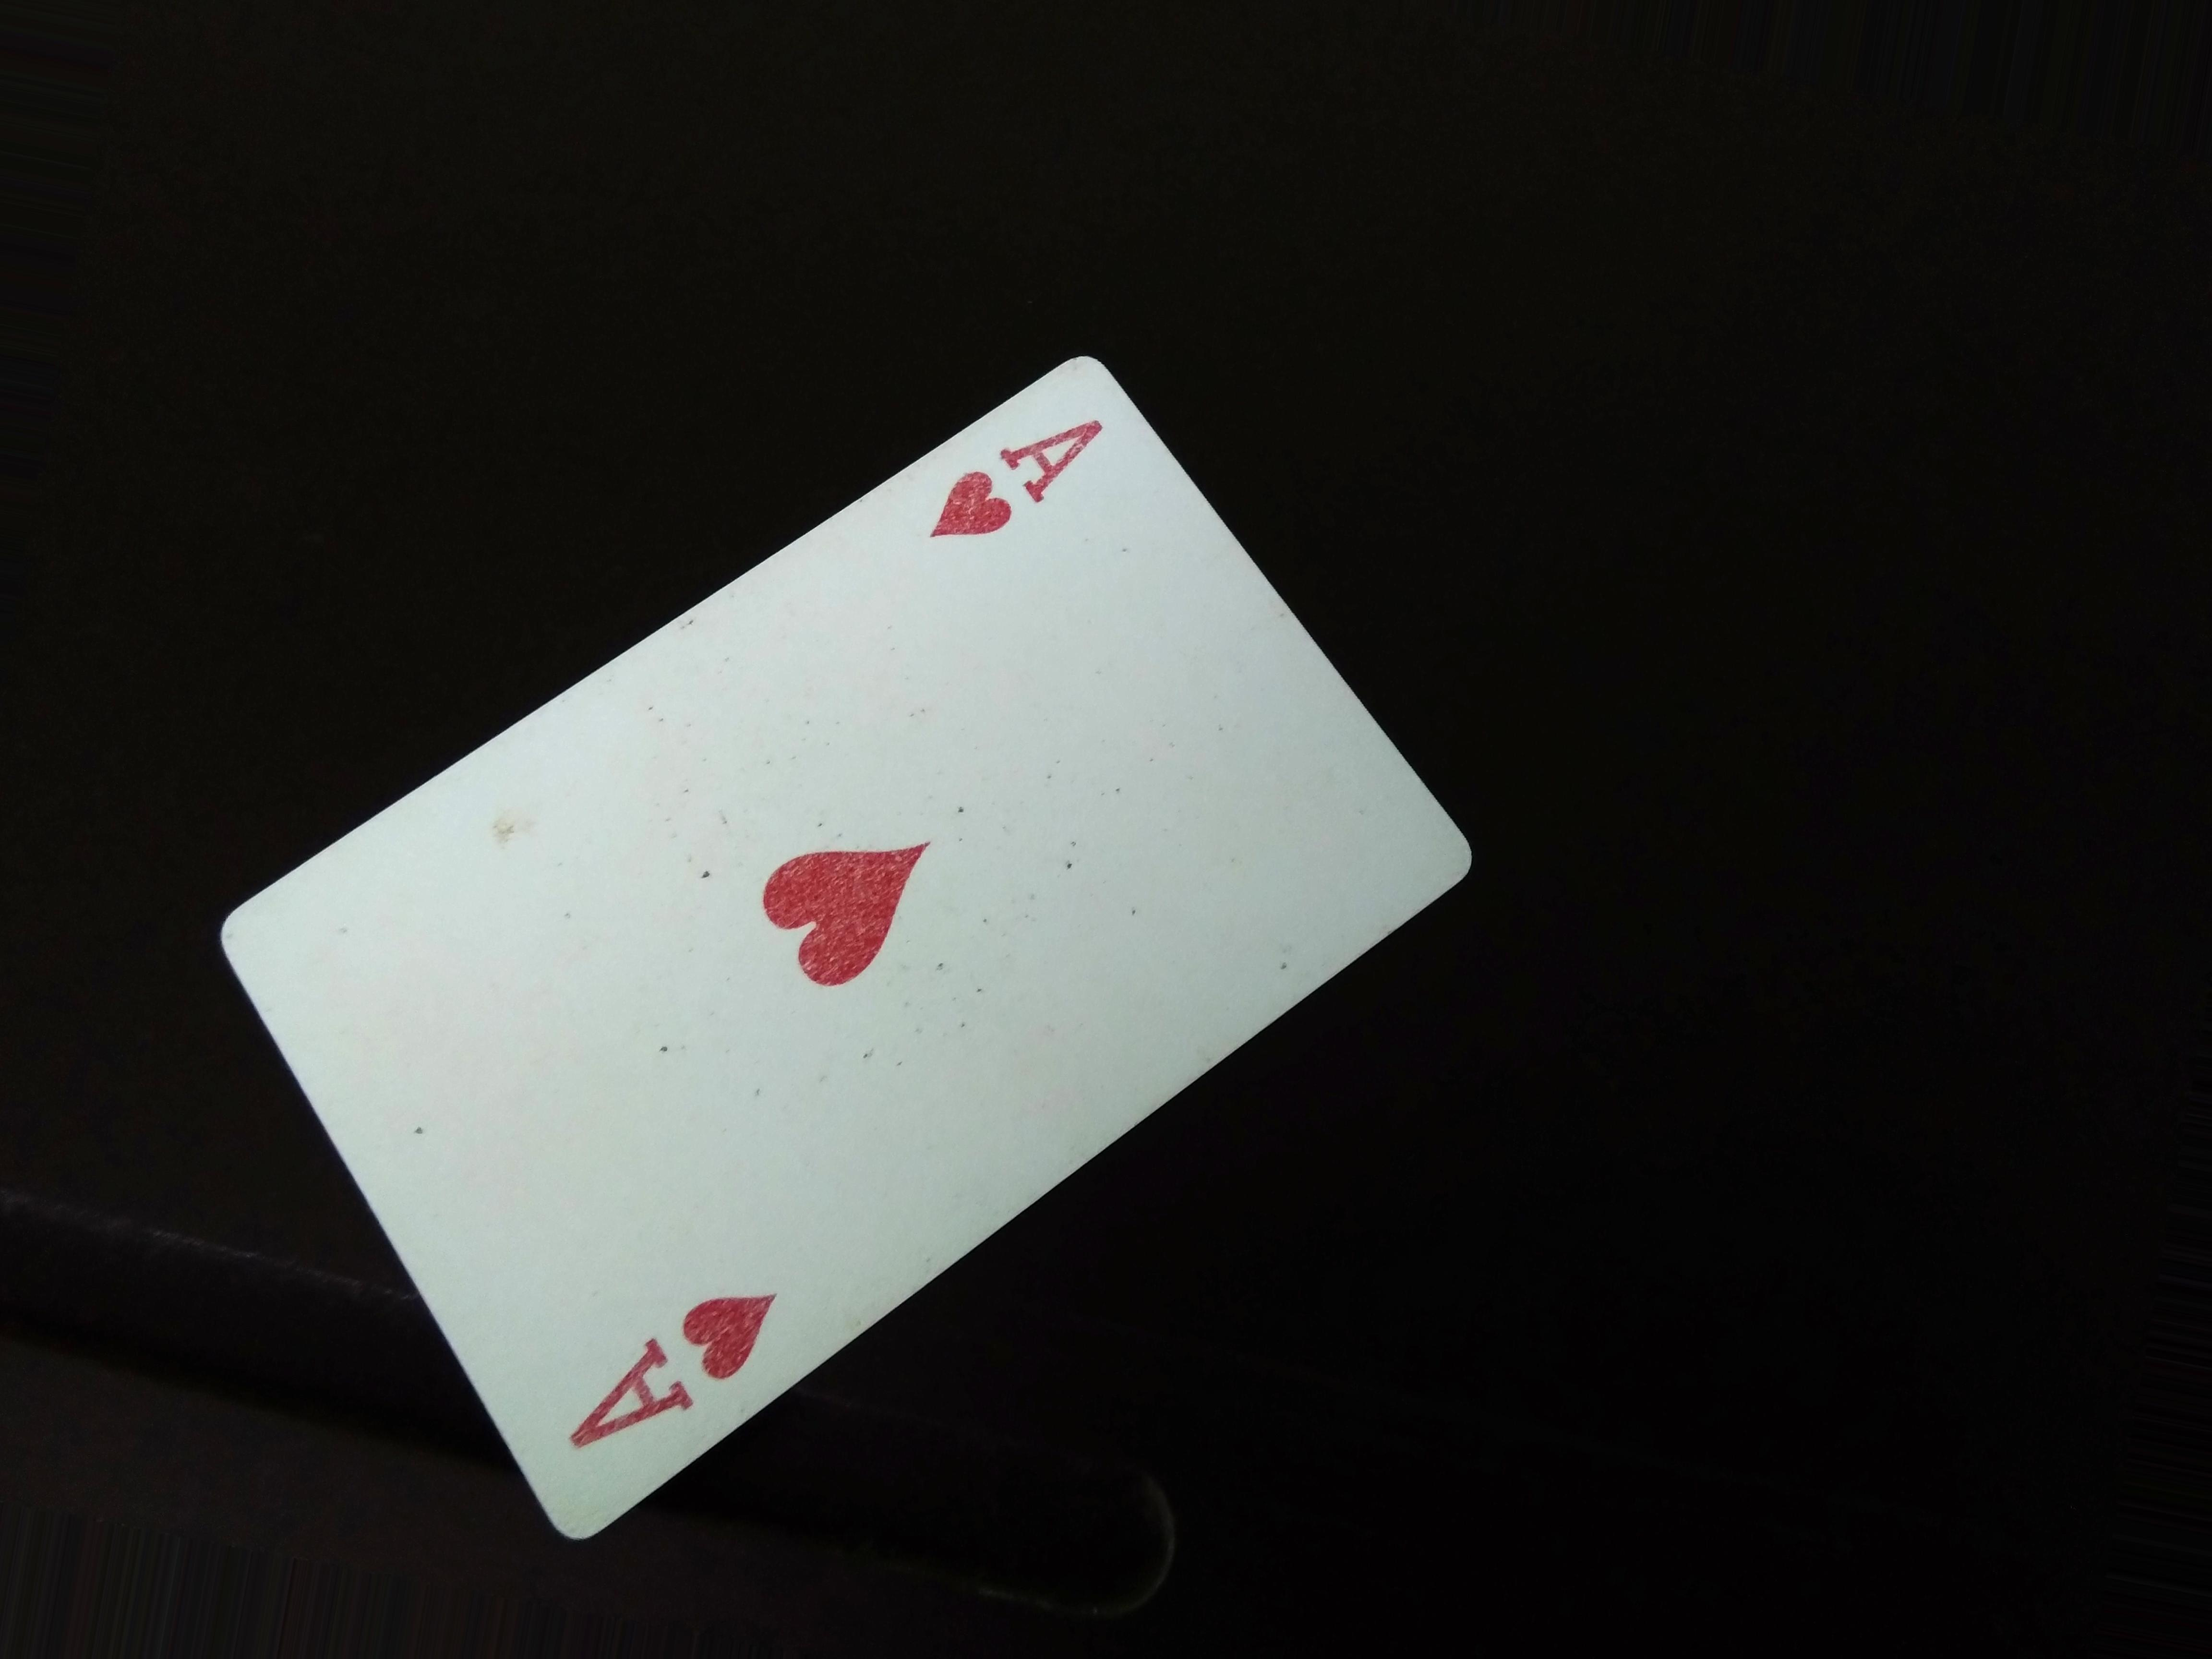AH: (550, 1249, 780, 1467)
